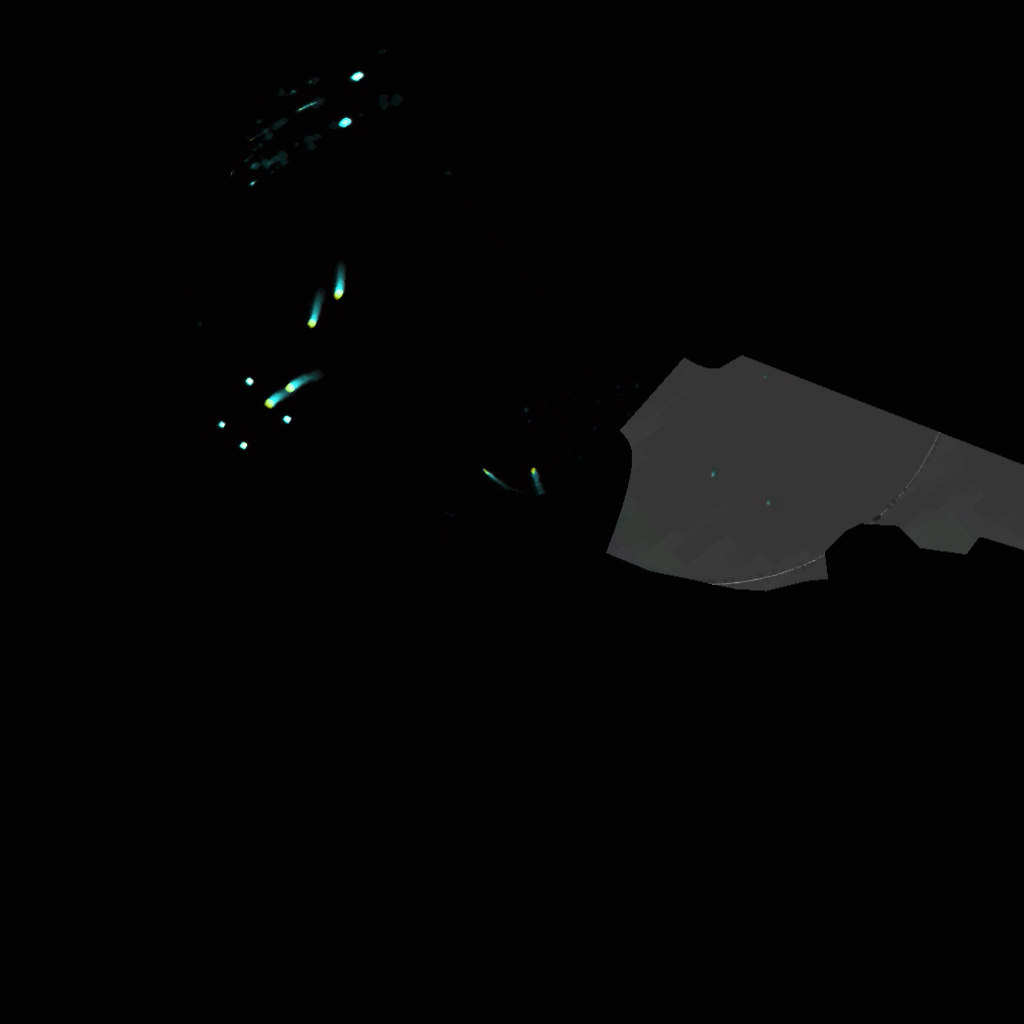B: (285, 371, 314, 394), (331, 267, 347, 300), (308, 298, 324, 329), (264, 387, 286, 406), (480, 463, 500, 481), (528, 464, 542, 486)
